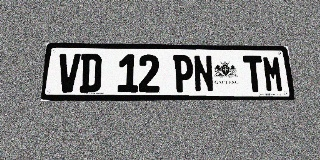1: (117, 54, 138, 92)
2: (139, 54, 159, 92)
D: (79, 54, 102, 92)
M: (262, 56, 284, 92)
N: (193, 55, 214, 92)
P: (173, 55, 194, 92)
T: (243, 56, 265, 92)
V: (57, 53, 81, 92)
